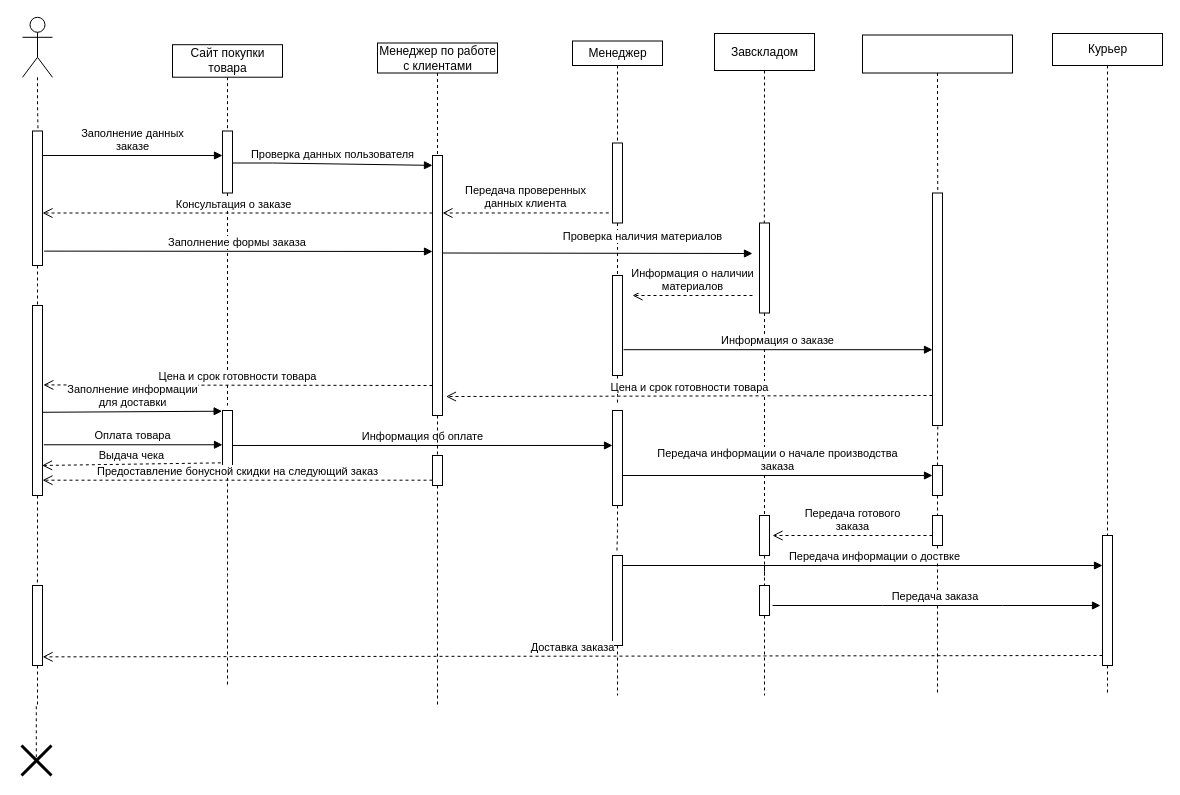
This 1180x795 diagram has some shape labels left out. The centre of each missing label's shape, as x and y in pixels:
Клиент: the point at 37,46
Мастер по изготовление ножей: the point at 937,53
